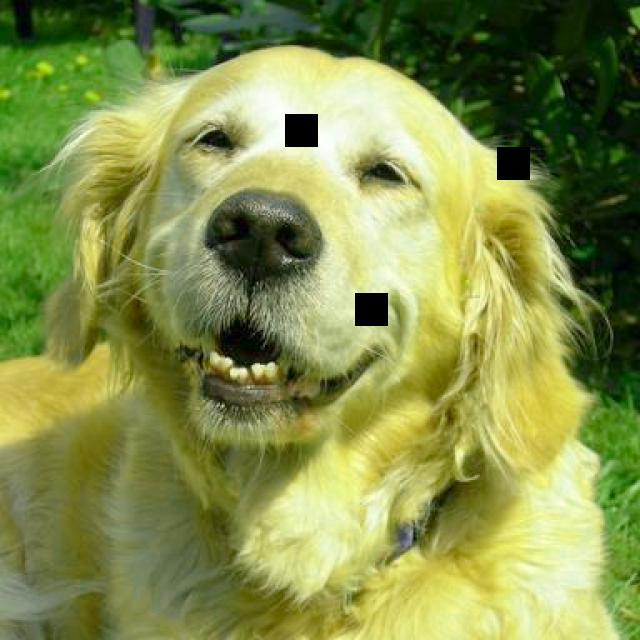adult_dog: (1, 40, 619, 637)
